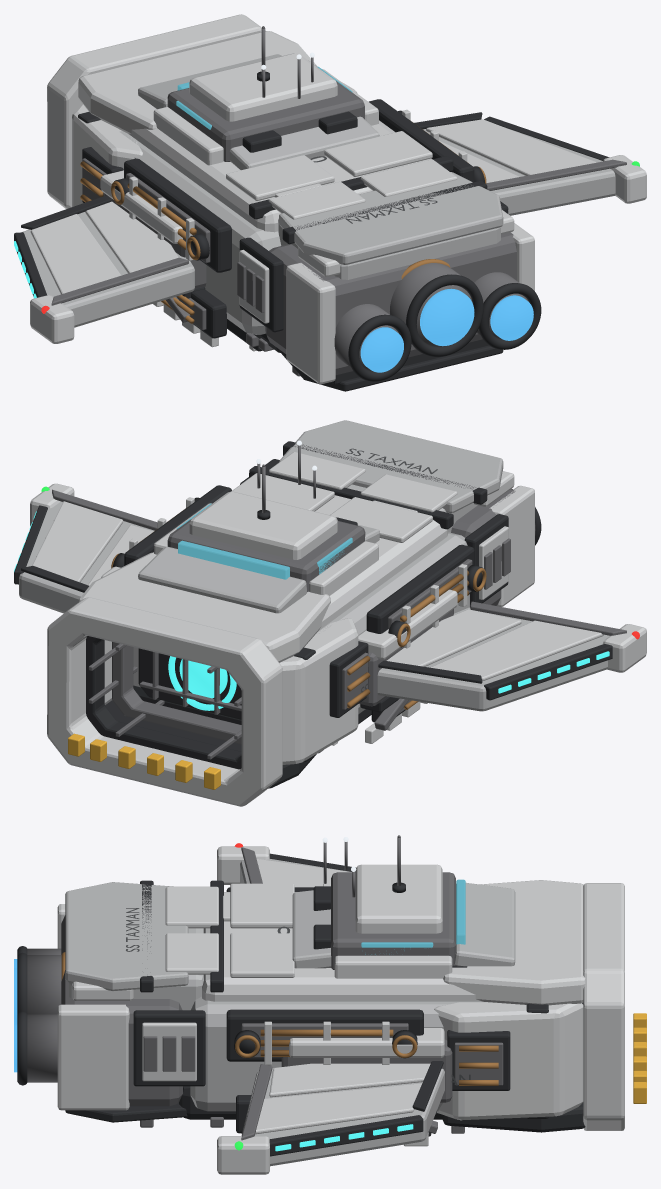
File: ss-taxman.glb
The picture shows the model from 3 angles, top to bottom: view 1: azimuth 30°, elevation 25°; view 2: azimuth 150°, elevation 25°; view 3: azimuth 270°, elevation 25°; orthographic projection. The views are drawn at different scales.
Parts seen in each view (by area): view 1: Merged_ArmorPaleGrey, Merged_HullTaxGrey, Merged_TrimGunmetal, Merged_MachinerySteel, ThrusterC, Merged_PipeCopper, ThrusterR, ThrusterL; view 2: Merged_ArmorPaleGrey, Merged_HullTaxGrey, Merged_TrimGunmetal, Merged_MachinerySteel, Merged_HazardAmber, Merged_BridgeGlass, Merged_PipeCopper, Merged_TractorGlow, TractorEmit; view 3: Merged_ArmorPaleGrey, Merged_HullTaxGrey, Merged_MachinerySteel, Merged_TrimGunmetal, Merged_PipeCopper, Merged_HazardAmber, Merged_BridgeGlass, Merged_TractorGlow.
Part boxes in pixels (left/top/right/bottom): Merged_ArmorPaleGrey: left=30, top=14, right=646, bottom=384; Merged_HullTaxGrey: left=22, top=54, right=615, bottom=334; Merged_TrimGunmetal: left=14, top=71, right=609, bottom=391; Merged_MachinerySteel: left=51, top=26, right=626, bottom=376; ThrusterC: left=420, top=288, right=474, bottom=346; Merged_PipeCopper: left=80, top=122, right=486, bottom=323; ThrusterR: left=490, top=295, right=533, bottom=340; ThrusterL: left=360, top=327, right=403, bottom=372; Merged_ArmorPaleGrey: left=30, top=452, right=646, bottom=806; Merged_HullTaxGrey: left=19, top=420, right=609, bottom=714; Merged_TrimGunmetal: left=14, top=441, right=612, bottom=788; Merged_MachinerySteel: left=52, top=445, right=626, bottom=759; Merged_HazardAmber: left=68, top=733, right=220, bottom=789; Merged_BridgeGlass: left=176, top=503, right=352, bottom=579; Merged_PipeCopper: left=111, top=511, right=486, bottom=709; Merged_TractorGlow: left=14, top=511, right=609, bottom=710; TractorEmit: left=179, top=659, right=227, bottom=698; Merged_ArmorPaleGrey: left=57, top=846, right=624, bottom=1174; Merged_HullTaxGrey: left=65, top=858, right=515, bottom=1166; Merged_MachinerySteel: left=27, top=835, right=503, bottom=1140; Merged_TrimGunmetal: left=17, top=853, right=585, bottom=1156; Merged_PipeCopper: left=61, top=952, right=498, bottom=1085; Merged_HazardAmber: left=633, top=1013, right=646, bottom=1103; Merged_BridgeGlass: left=361, top=879, right=465, bottom=954; Merged_TractorGlow: left=275, top=1124, right=413, bottom=1151.
Size of the model in its own units: 33.98 by 14.12 by 30.02.
